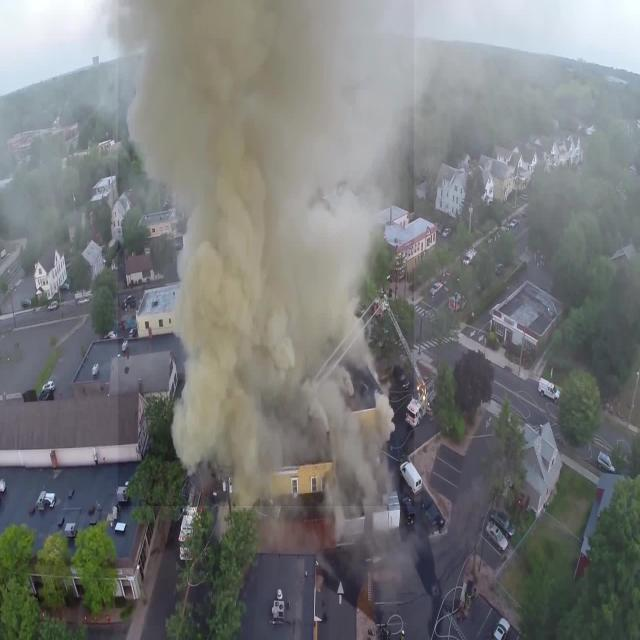Smoke: (118, 0, 414, 506)
